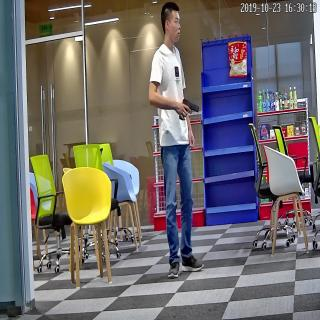gun: (177, 98, 202, 124)
